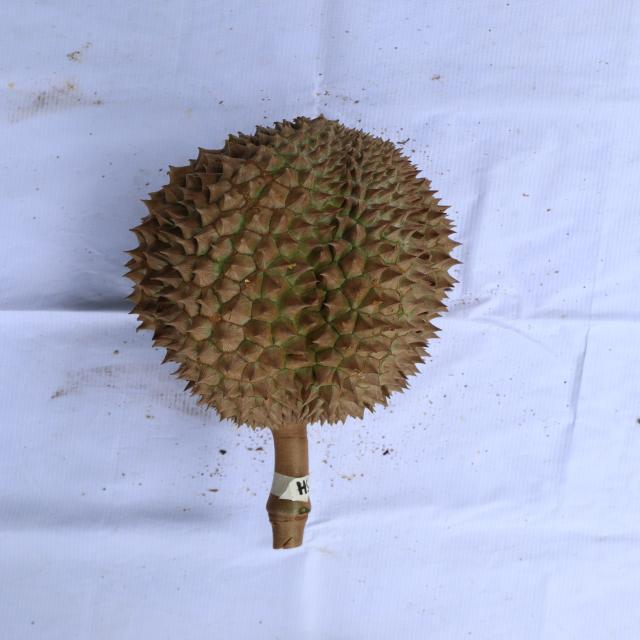mature: (120, 110, 466, 432)
